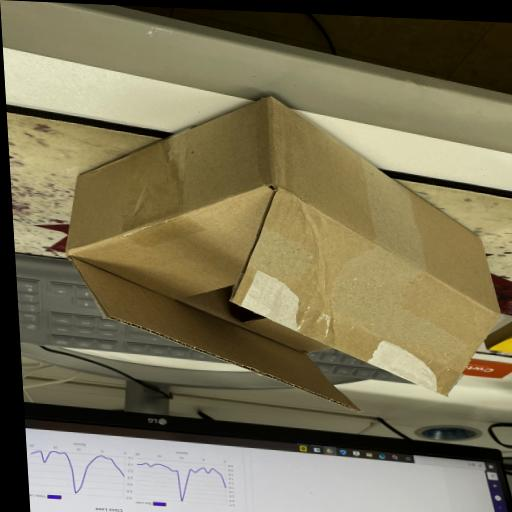box: (64, 96, 502, 413)
opened: (65, 183, 502, 413)
